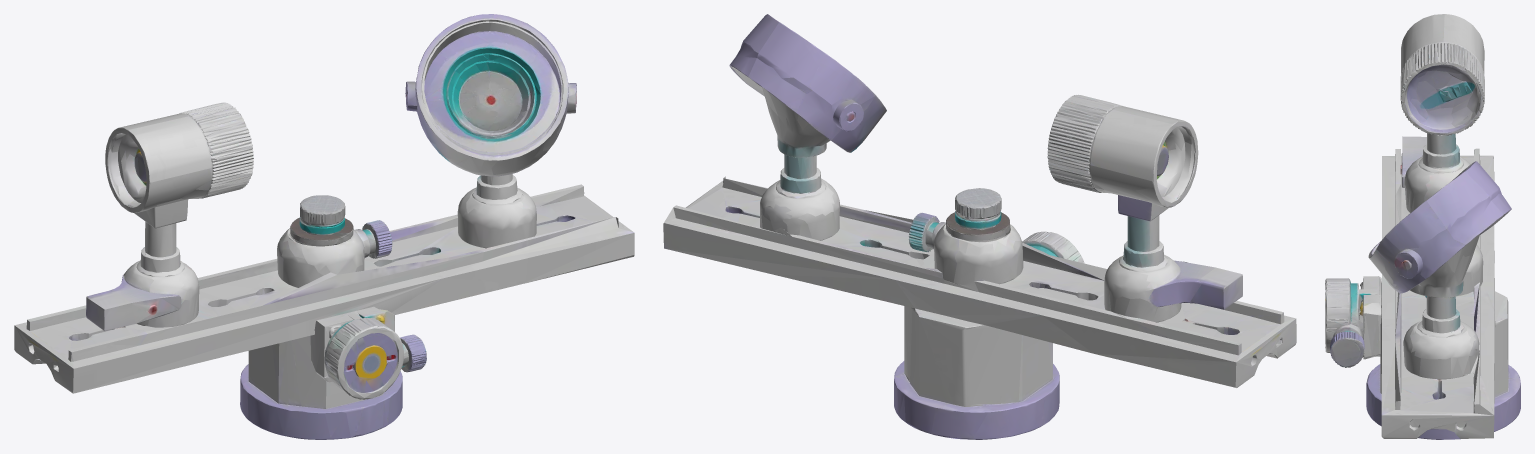
File: optical-bench.gltf
3 views of the same model, side by side, from view 1: azimuth 30°, elevation 25°; view 2: azimuth 150°, elevation 25°; view 3: azimuth 270°, elevation 25° (orthographic). The views are drawn at different scales.
Bounding box in the file's own units: 1.9 × 1.1 × 0.6073.
Materials: 1 (1 with a texture image).
